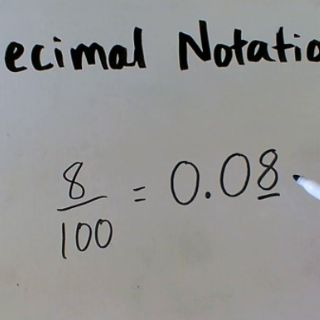.: (204, 186, 212, 201)
0: (169, 159, 201, 206), (219, 150, 250, 198), (73, 218, 93, 254), (92, 218, 115, 249)
1: (56, 220, 69, 261)
8: (61, 159, 90, 201), (255, 148, 282, 191)
